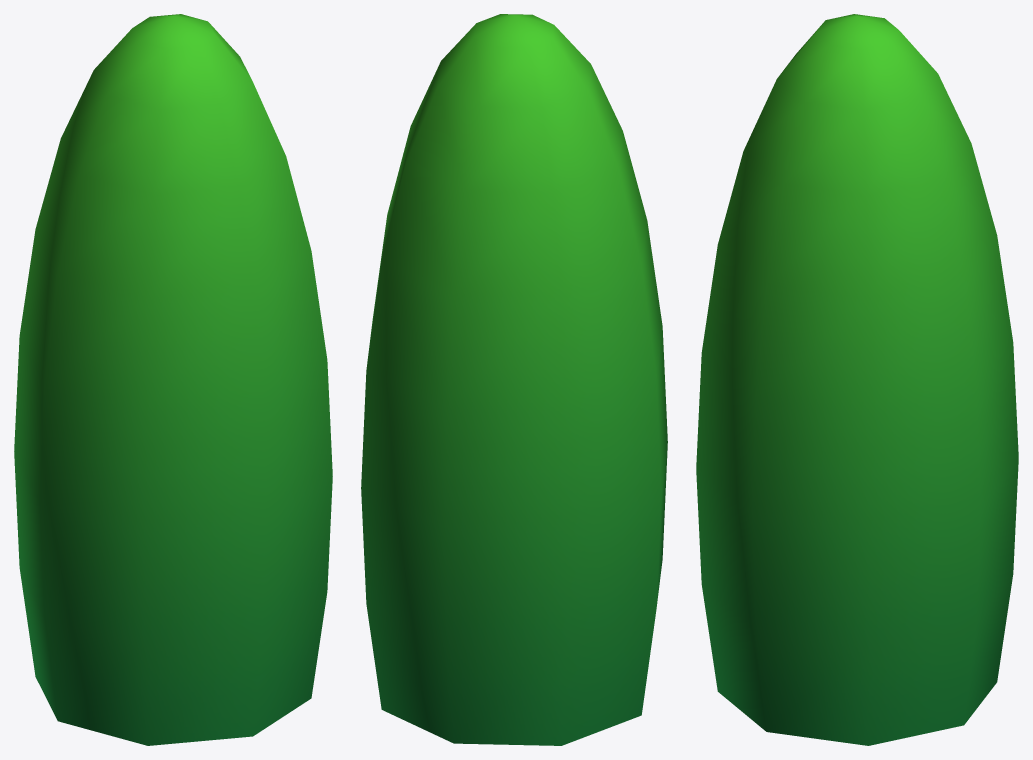
File: Bush_2_A_1.glb
3 views of the same model, side by side, from view 1: azimuth 30°, elevation 25°; view 2: azimuth 150°, elevation 25°; view 3: azimuth 270°, elevation 25° (orthographic).
Parts seen in each view (by area): view 1: Bush_2_A_1; view 2: Bush_2_A_1; view 3: Bush_2_A_1.
Boxes of the visible parts, <box> form: Bush_2_A_1: <box>14,14,332,745</box>; Bush_2_A_1: <box>361,14,667,745</box>; Bush_2_A_1: <box>696,14,1018,745</box>.
Bounding box in the file's own units: 0.6938 × 1.59 × 0.6938.
1 material, 1 textured.
